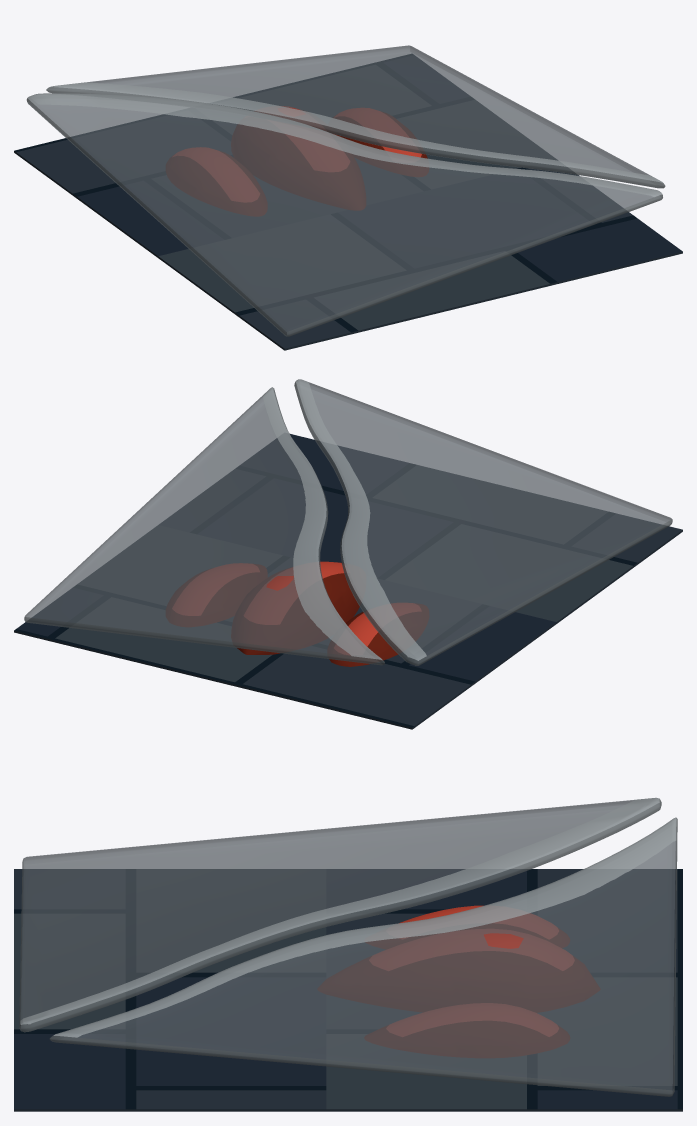
File: glass_hatch_3.glb
3 views of the same model, one above another, from view 1: azimuth 30°, elevation 25°; view 2: azimuth 150°, elevation 25°; view 3: azimuth 270°, elevation 25° (orthographic). The views are drawn at different scales.
Visible parts, largest first — view 1: pit_floor, leaf1, leaf0, pod1, pod0, pod2; view 2: pit_floor, leaf1, leaf0, pod1, pod2, pod0; view 3: pit_floor, leaf0, leaf1, pod1, pod2, pod0.
Part boxes in pixels (x1,y1,x2,y2): pit_floor: (14, 54, 682, 350); leaf1: (26, 93, 662, 336); leaf0: (46, 45, 665, 188); pod1: (231, 106, 365, 210); pod0: (166, 147, 267, 216); pod2: (333, 108, 428, 176); pit_floor: (14, 434, 682, 729); leaf1: (294, 379, 672, 665); leaf0: (24, 387, 384, 665); pod1: (231, 561, 360, 654); pod2: (166, 563, 267, 626); pod0: (327, 603, 429, 666); pit_floor: (14, 869, 682, 1111); leaf0: (49, 817, 677, 1096); leaf1: (19, 797, 661, 1032); pod1: (317, 929, 600, 1012); pod2: (364, 1003, 569, 1057); pod0: (365, 905, 569, 949).
Size of the model in its own units: 17 by 7.7 by 20.
